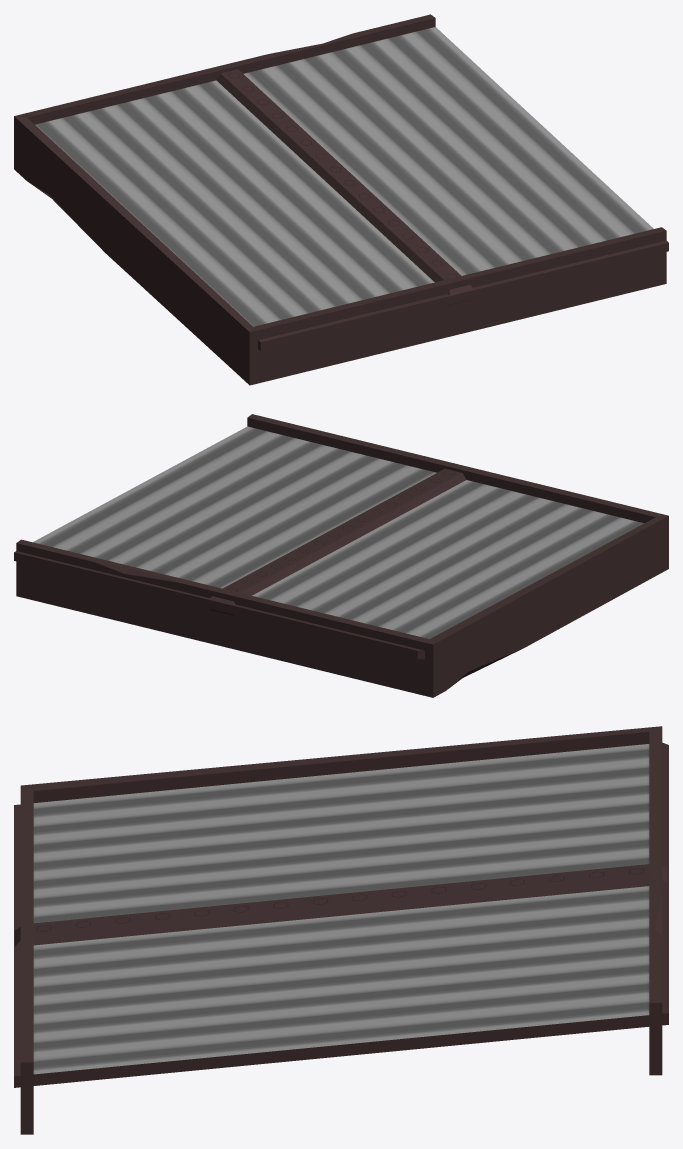
The model's file is SW_ENV_EL_Station_Roof_A_03.fbx.
3 views of the same model, one above another, from view 1: azimuth 30°, elevation 25°; view 2: azimuth 150°, elevation 25°; view 3: azimuth 270°, elevation 25° (orthographic). The views are drawn at different scales.
Visible parts, largest first — view 1: SW_ENV_EL_Station_Roof_A_03; view 2: SW_ENV_EL_Station_Roof_A_03; view 3: SW_ENV_EL_Station_Roof_A_03.
Boxes of the visible parts, <box> form: SW_ENV_EL_Station_Roof_A_03: <box>14,14,668,385</box>; SW_ENV_EL_Station_Roof_A_03: <box>14,414,668,697</box>; SW_ENV_EL_Station_Roof_A_03: <box>14,726,668,1134</box>.
Size of the model in its own units: 500 by 111 by 500.
